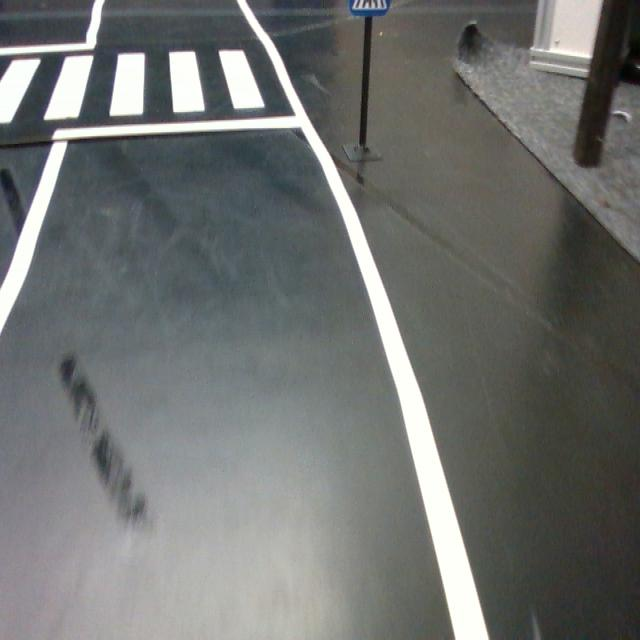crosswalk-sign: (348, 0, 392, 18)
